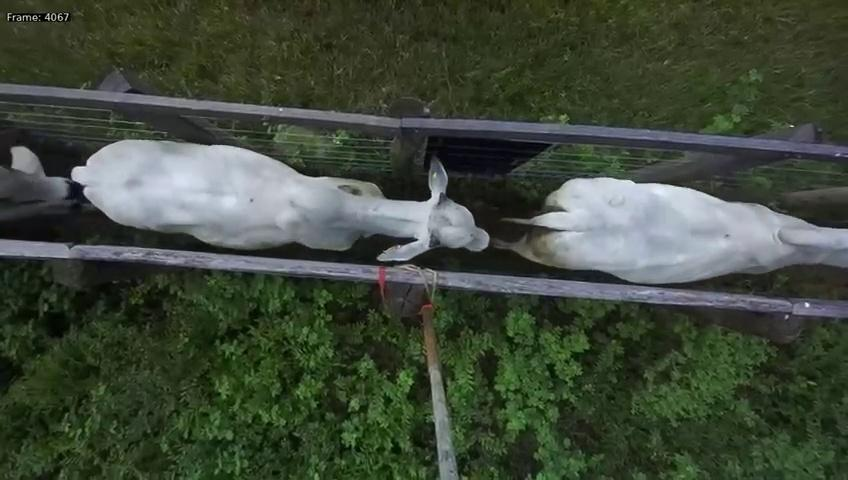cattle: (65, 137, 488, 264)
